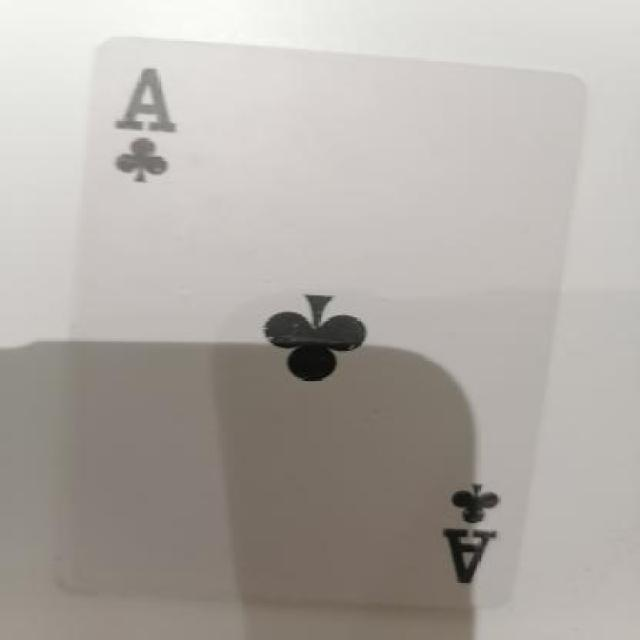AC: (96, 43, 195, 219), (422, 461, 524, 584)
